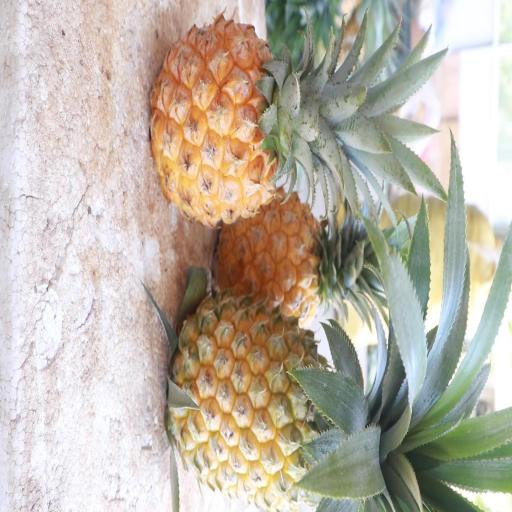Pineapple - v8 v1: (163, 284, 387, 512), (148, 8, 357, 234), (210, 188, 380, 328)
